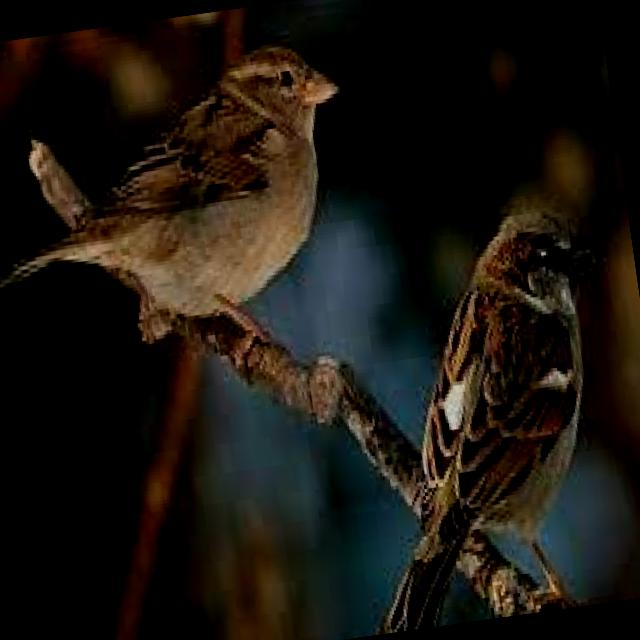bird: (0, 17, 379, 408), (335, 167, 640, 632)
